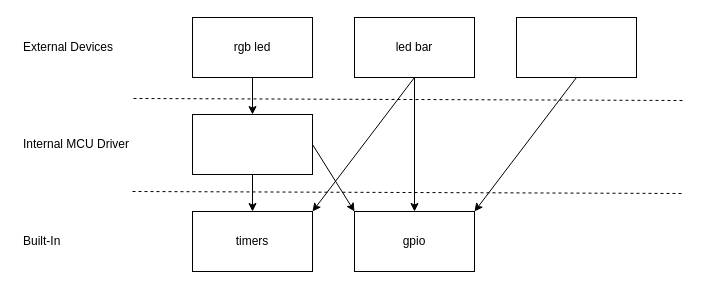
This 702x289 diagram has some shape labels left out. Here are the shapes that lost their labels. From the top down, the centre of each, then its label:
At point 576,47: "keypad".
At point 252,144: "pwm".
